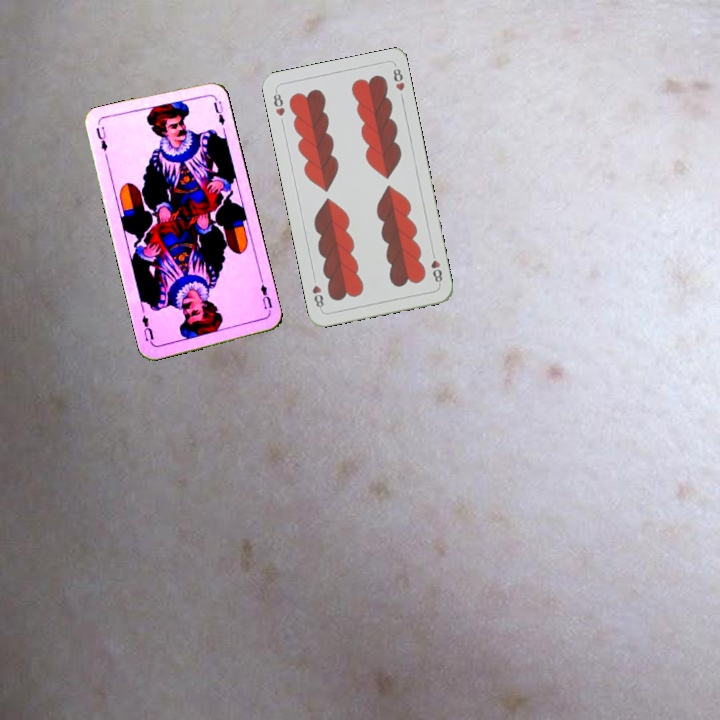EU: (256, 280, 275, 316), (92, 122, 110, 154)
H8: (427, 247, 445, 287), (269, 87, 288, 119)
